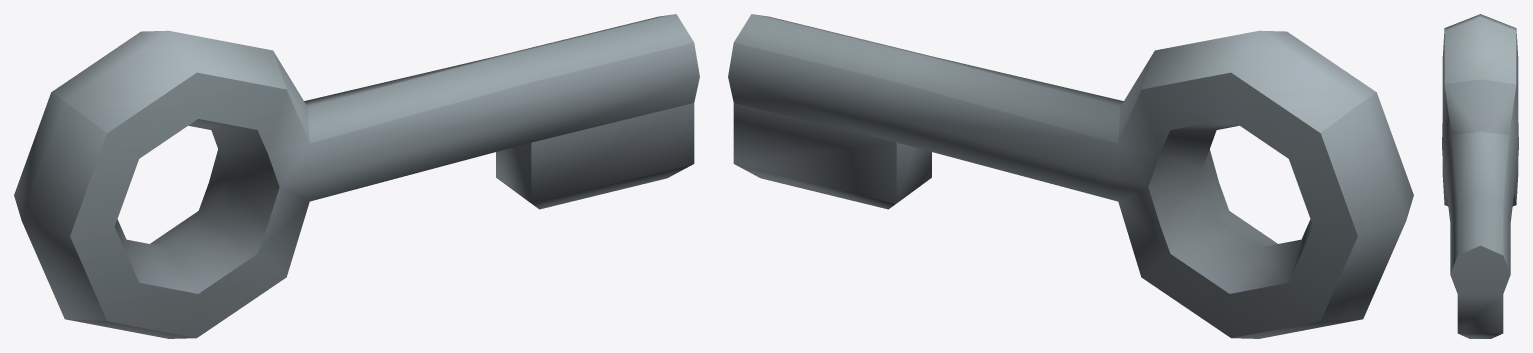
Rendered from key-gltf.glb.
3 renders of one model, left to right at view 1: azimuth 30°, elevation 25°; view 2: azimuth 150°, elevation 25°; view 3: azimuth 270°, elevation 25°, orthographic. The views are drawn at different scales.
Parts seen in each view (by area): view 1: key; view 2: key; view 3: key.
Boxes of the visible parts, left/top/right/bottom form: key: left=14, top=14, right=699, bottom=338; key: left=728, top=14, right=1413, bottom=338; key: left=1442, top=14, right=1518, bottom=338.
Size of the model in its own units: 0.8957 by 0.4028 by 0.1418.
Materials: 1 (1 with a texture image).
